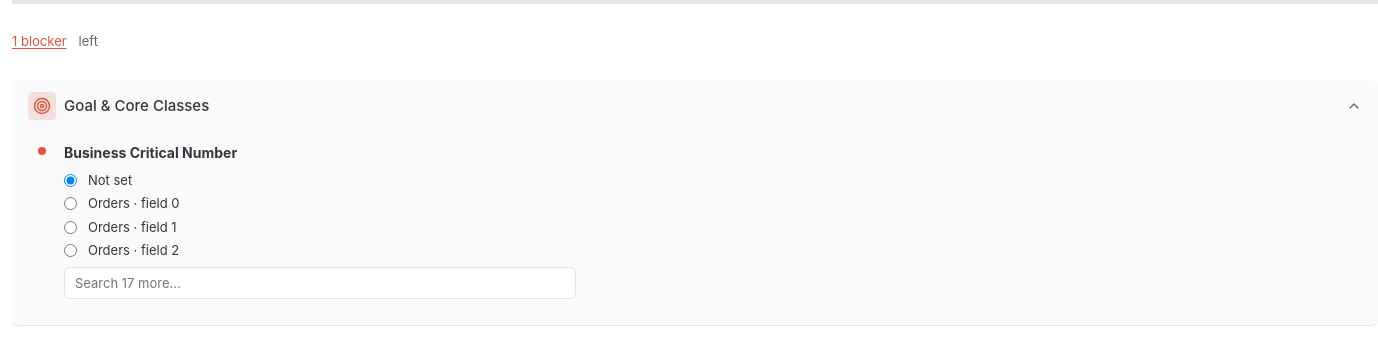
the option search dropdown › a query that matches nothing shows No matches, not a listbox option
This screenshot has width=1378, height=358.
Type "zzz" into the dropdown. click: (320, 282)
box: top-left (64, 266), bottom-right (576, 298)
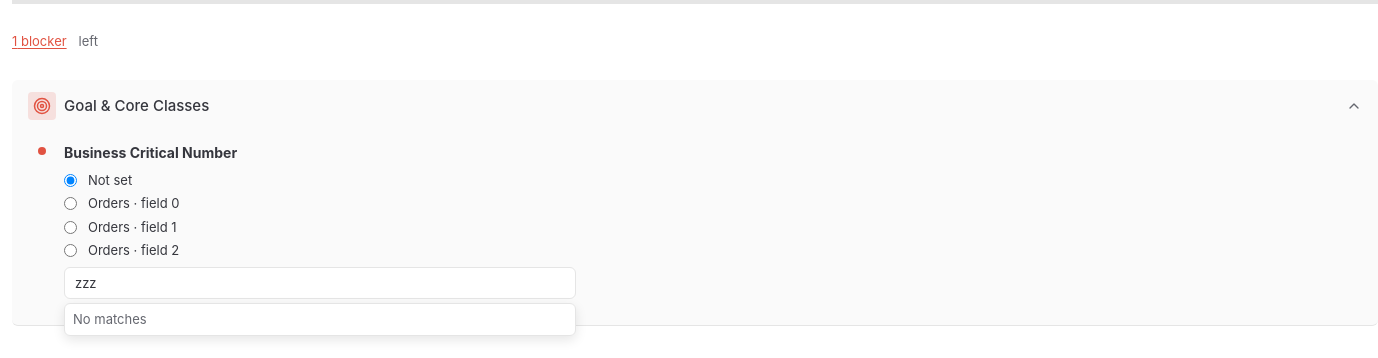
Expected: the text "No matches" is shown, top-left (73, 310), bottom-right (147, 326)
